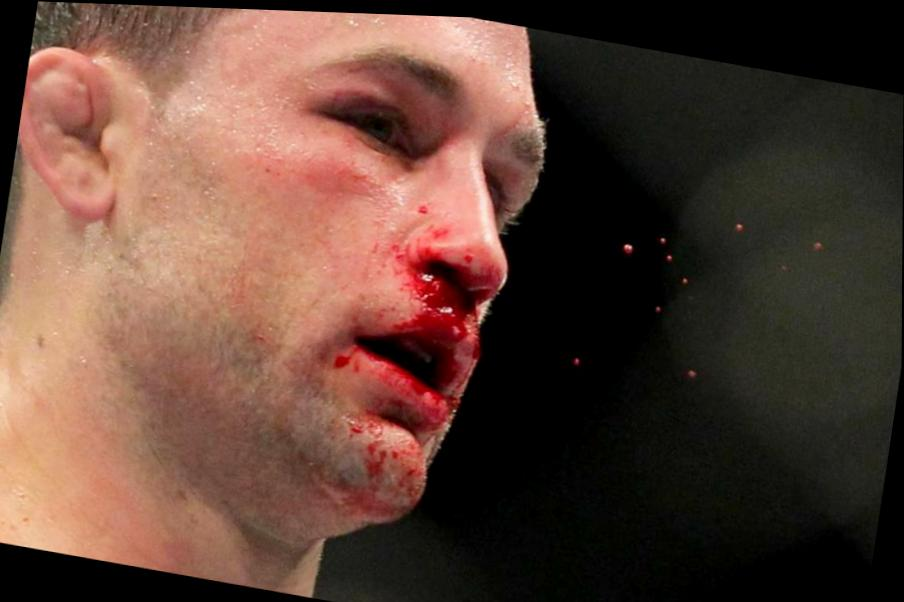Fire: (332, 221, 507, 490)
